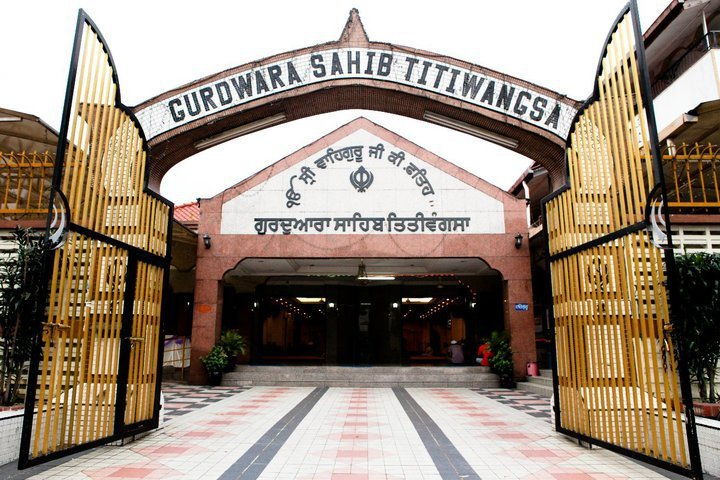Gurdwara: (52, 13, 610, 424)
